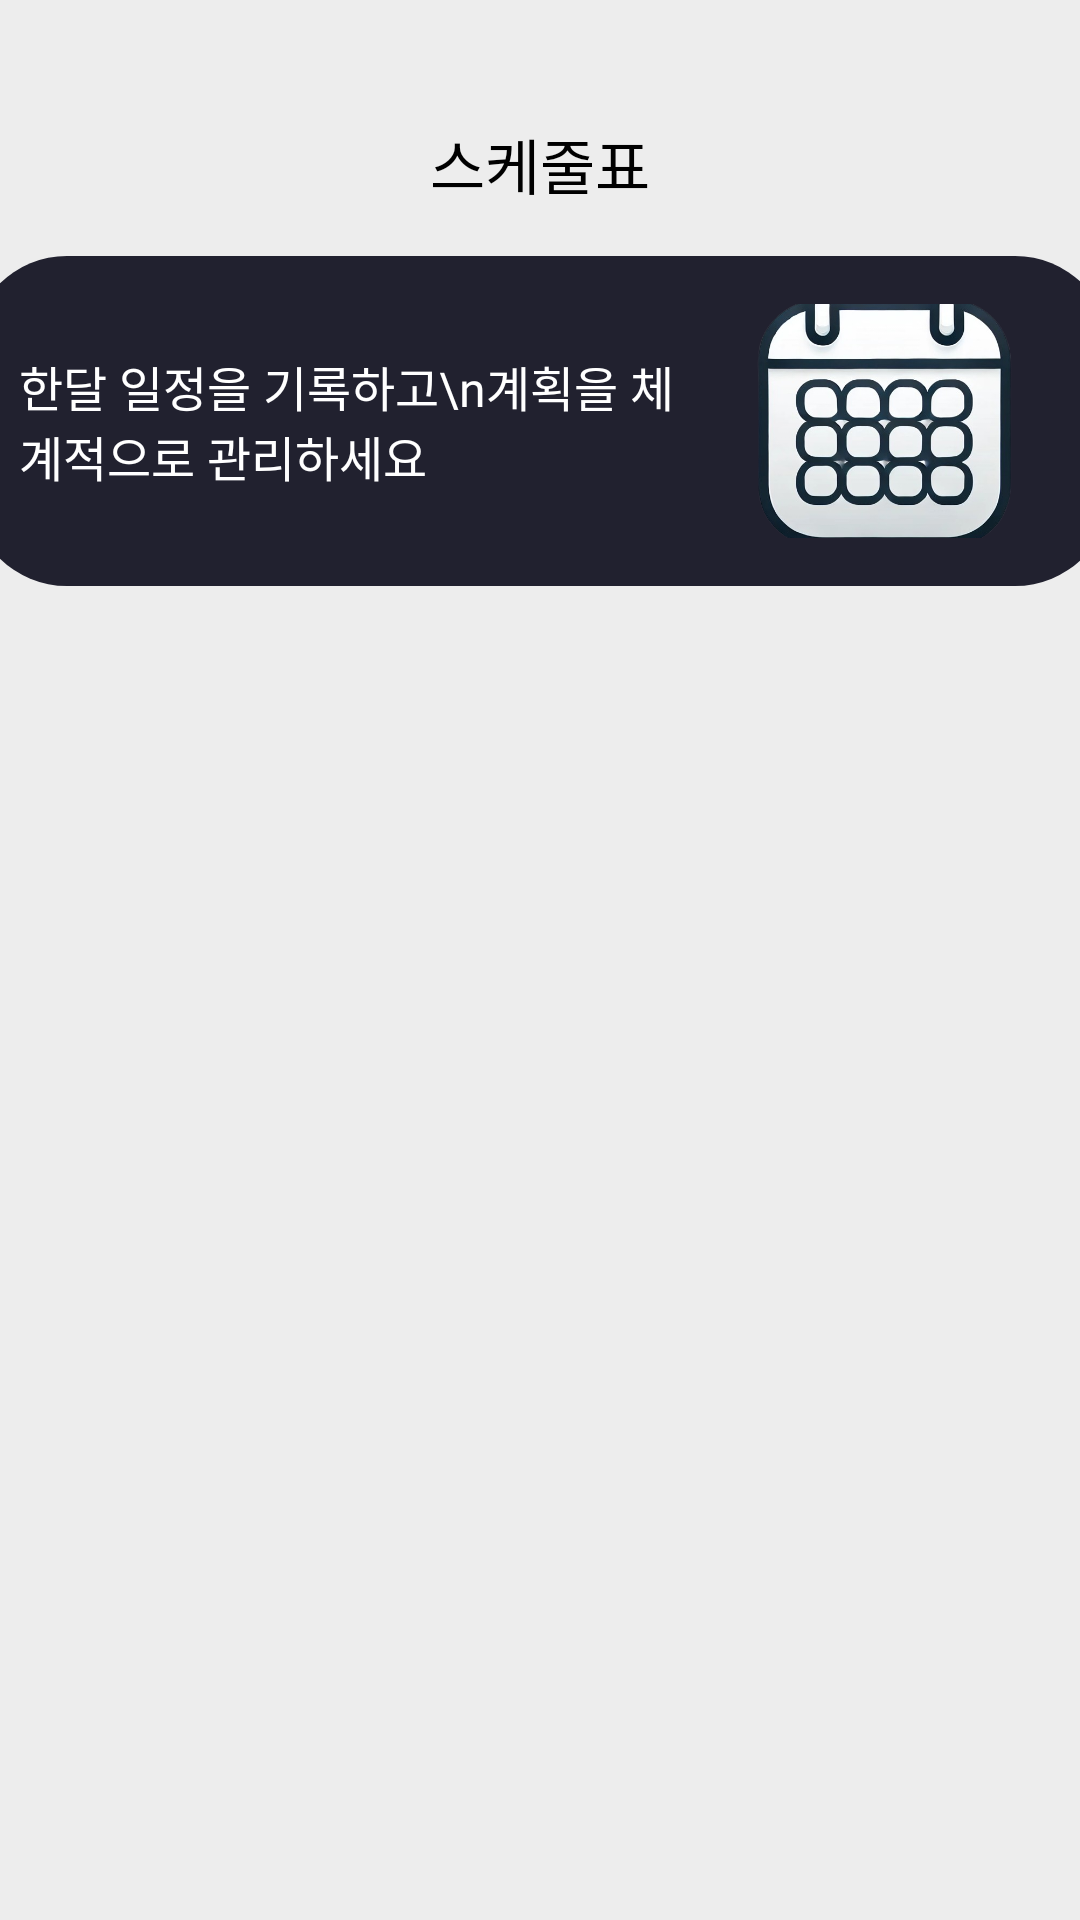

Where icons sit on this 1080x1920 app screen, as (x1, y1, x2, y2):
Calendar Icon: (768, 304, 1001, 538)
